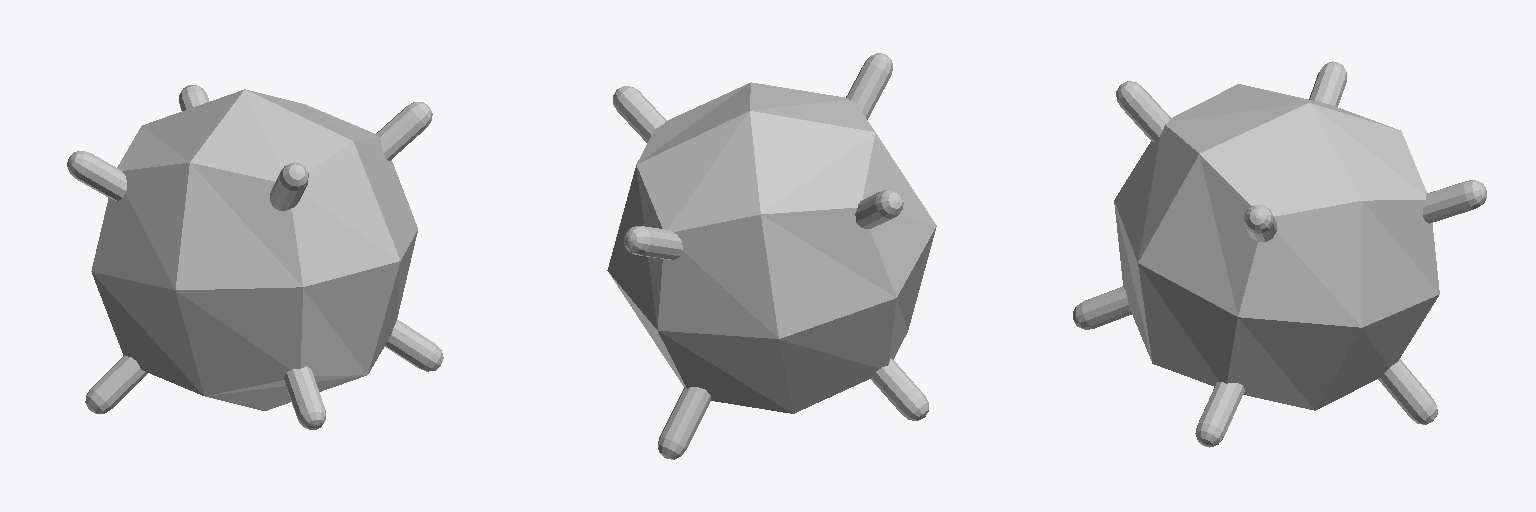
The model's file is waterMine.obj.
3 renders of one model, left to right at view 1: azimuth 30°, elevation 25°; view 2: azimuth 150°, elevation 25°; view 3: azimuth 270°, elevation 25°, orthographic.
Parts seen in each view (by area): view 1: Cube, Cylinder.003, Cylinder.006, Cylinder.007, Cylinder.004, Cylinder.008, Cylinder.002, Cylinder.001; view 2: Cube, Cylinder.005, Cylinder.003, Cylinder.002, Cylinder.004, Cylinder.001, Cylinder.006; view 3: Cube, Cylinder.005, Cylinder.008, Cylinder.001, Cylinder.002, Cylinder.007, Cylinder.006, Cylinder.004.
Boxes of the visible parts, <box> form: Cube: <box>91,89,417,410</box>; Cylinder.003: <box>85,356,147,413</box>; Cylinder.006: <box>67,151,126,200</box>; Cylinder.007: <box>284,366,325,429</box>; Cylinder.004: <box>376,102,432,160</box>; Cylinder.008: <box>385,319,443,371</box>; Cylinder.002: <box>270,162,308,210</box>; Cylinder.001: <box>179,85,209,110</box>; Cube: <box>607,82,936,413</box>; Cylinder.005: <box>658,387,710,459</box>; Cylinder.003: <box>871,358,928,420</box>; Cylinder.002: <box>846,53,892,119</box>; Cylinder.004: <box>613,86,666,142</box>; Cylinder.001: <box>624,226,682,259</box>; Cylinder.006: <box>855,189,903,228</box>; Cube: <box>1114,84,1439,410</box>; Cylinder.005: <box>1378,359,1437,424</box>; Cylinder.008: <box>1195,382,1244,447</box>; Cylinder.001: <box>1423,180,1486,223</box>; Cylinder.002: <box>1116,81,1170,141</box>; Cylinder.007: <box>1073,286,1131,329</box>; Cylinder.006: <box>1309,61,1346,106</box>; Cylinder.004: <box>1244,205,1276,241</box>.
Bounding box in the file's own units: 2.02 × 1.83 × 2.2.